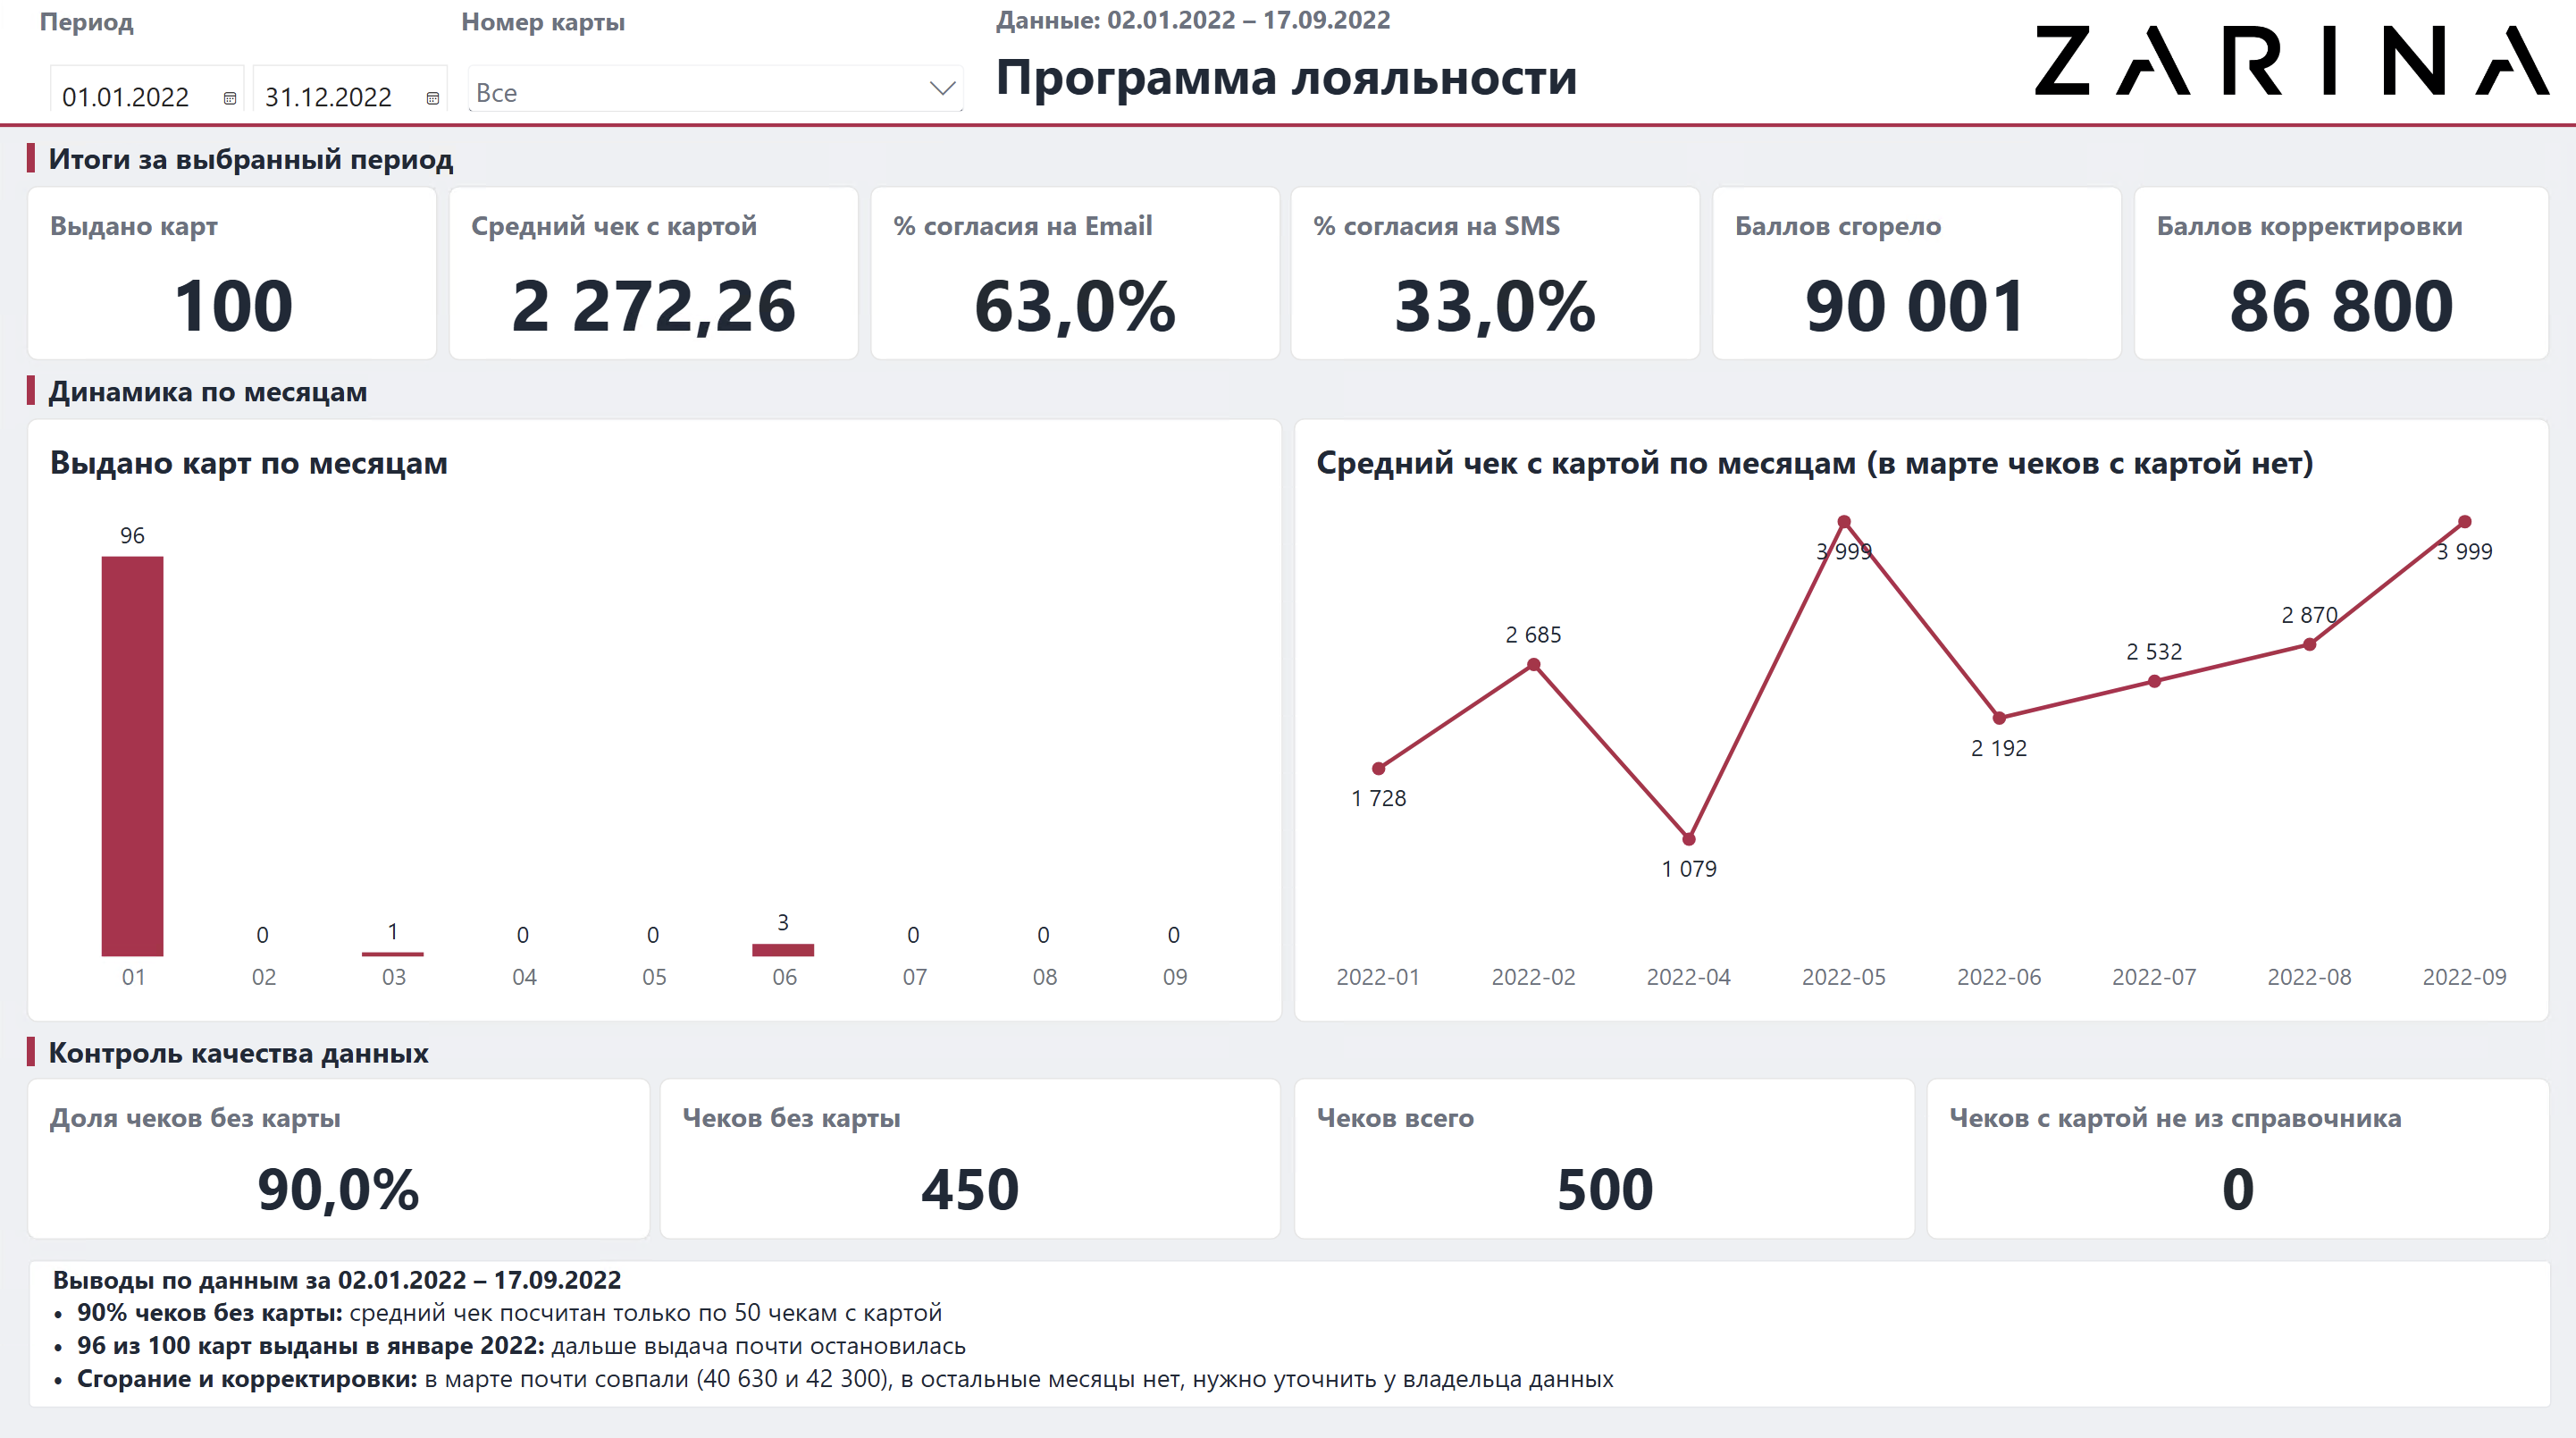

The page's visual inventory and layout, read from the dashboard file:
{"tool":"powerbi","page":{"name":"Программа лояльности Zarina","canvas":[1920,1080],"ordinal":0},"visuals":[{"type":"textbox","box":[0,0,1920,100],"z":0},{"type":"card","title":"Выдано карт","fields":{"Values":["_Меры.Карты Выданные"]},"box":[20,146,306,130],"z":1000},{"type":"slicer","title":"Период","fields":{"Values":["Календарь.Date"]},"box":[29.7,10.4,329.9,80.2],"z":2000,"group":"g2"},{"type":"card","title":"Средний чек с картой","fields":{"Values":["_Меры.Чек средний с картой"]},"box":[334,146,306,130],"z":2000},{"type":"slicer","title":"Номер карты","fields":{"Values":["Карты.Номер карты текст"]},"box":[343.3,10.4,380,80],"z":3000,"group":"g1"},{"type":"card","title":"% согласия на Email","fields":{"Values":["_Меры.Email согласие %"]},"box":[648,146,306,130],"z":3000},{"type":"card","title":"% согласия на SMS","fields":{"Values":["_Меры.SMS согласие %"]},"box":[962,146,306,130],"z":4000},{"type":"card","title":"Баллов сгорело","fields":{"Values":["_Меры.Баллы Сгорание"]},"box":[1276,146,306,130],"z":5000},{"type":"card","title":"Баллов корректировки","fields":{"Values":["_Меры.Баллы Корректировка"]},"box":[1590,146,310,130],"z":6000},{"type":"clusteredColumnChart","title":"Выдано карт по месяцам","fields":{"Category":["Календарь.ММ"],"Y":["_Меры.Карты Выданные"]},"box":[20,319,936,450],"z":7000},{"type":"lineChart","title":"Средний чек с картой по месяцам (в марте чеков с картой нет)","fields":{"Category":["Календарь.Год-месяц"],"Y":["_Меры.Чек средний с картой"]},"box":[964,319,936,450],"z":8000},{"type":"textbox","box":[36,777,1864,30],"z":9000},{"type":"card","title":"Доля чеков без карты","fields":{"Values":["_Меры.Чеки без карты %"]},"box":[19.3,811.4,465.1,120.4],"z":10000},{"type":"card","title":"Чеков без карты","fields":{"Values":["_Меры.Чеки без карты"]},"box":[491.9,811.4,463.7,120.4],"z":11000},{"type":"card","title":"Чеков всего","fields":{"Values":["_Меры.Чеки Всего"]},"box":[964.5,811.4,463.7,120.4],"z":12000},{"type":"card","title":"Чеков с картой не из справочника","fields":{"Values":["_Меры.Чеки с картой вне справочника"]},"box":[1435.5,811.4,465.1,120.4],"z":13000},{"type":"image","box":[1517.3,0,383.4,105.5],"z":14000},{"type":"textbox","box":[20.8,946.6,1880,110],"z":15000},{"type":"textbox","box":[36,111,1864,30],"z":16000},{"type":"textbox","box":[36,284,1864,30],"z":17000},{"type":"card","fields":{"Values":["_Меры.Период данных"]},"box":[723.7,4,332.9,40],"z":18000},{"type":"shape","box":[0,100,1920,3],"z":19000},{"type":"shape","box":[20,115,6,22],"z":20000},{"type":"shape","box":[20,288,6,22],"z":21000},{"type":"shape","box":[20,781,6,22],"z":22000},{"type":"group","id":"g1","title":"Группа 1","box":[343.3,10.4,380.4,80.2],"z":23000},{"type":"group","id":"g2","title":"Группа 2","box":[29.7,10.4,329.9,80.2],"z":24000},{"type":"textbox","box":[731.1,37.2,459.2,72.8],"z":25000}]}

Visuals, with their boxes in screenshot pixels (x1, y1, x2, y2), scaled from the page's 1920x1080 canvas onto the 2576x1438 screenshot:
textbox: l=0, t=0, r=2575, b=133
"Выдано карт" card: l=27, t=195, r=438, b=367
"Период" slicer: l=40, t=13, r=482, b=121
"Средний чек с картой" card: l=449, t=195, r=859, b=367
"Номер карты" slicer: l=460, t=13, r=970, b=121
"% согласия на Email" card: l=869, t=195, r=1280, b=367
"% согласия на SMS" card: l=1291, t=195, r=1701, b=367
"Баллов сгорело" card: l=1712, t=195, r=2122, b=367
"Баллов корректировки" card: l=2133, t=195, r=2549, b=367
"Выдано карт по месяцам" clusteredColumnChart: l=27, t=425, r=1282, b=1024
"Средний чек с картой по месяцам (в марте чеков с картой нет)" lineChart: l=1294, t=425, r=2549, b=1024
textbox: l=48, t=1035, r=2549, b=1074
"Доля чеков без карты" card: l=26, t=1081, r=650, b=1240
"Чеков без карты" card: l=660, t=1081, r=1282, b=1240
"Чеков всего" card: l=1294, t=1081, r=1917, b=1240
"Чеков с картой не из справочника" card: l=1926, t=1081, r=2550, b=1240
image: l=2035, t=0, r=2550, b=140
textbox: l=28, t=1260, r=2550, b=1407
textbox: l=48, t=147, r=2549, b=188
textbox: l=48, t=378, r=2549, b=418
card - _Меры.Период данных: l=971, t=5, r=1418, b=59
shape: l=0, t=133, r=2575, b=137
shape: l=27, t=153, r=35, b=182
shape: l=27, t=383, r=35, b=413
shape: l=27, t=1040, r=35, b=1069
"Группа 1" group: l=460, t=13, r=971, b=121
"Группа 2" group: l=40, t=13, r=482, b=121
textbox: l=981, t=49, r=1597, b=147
